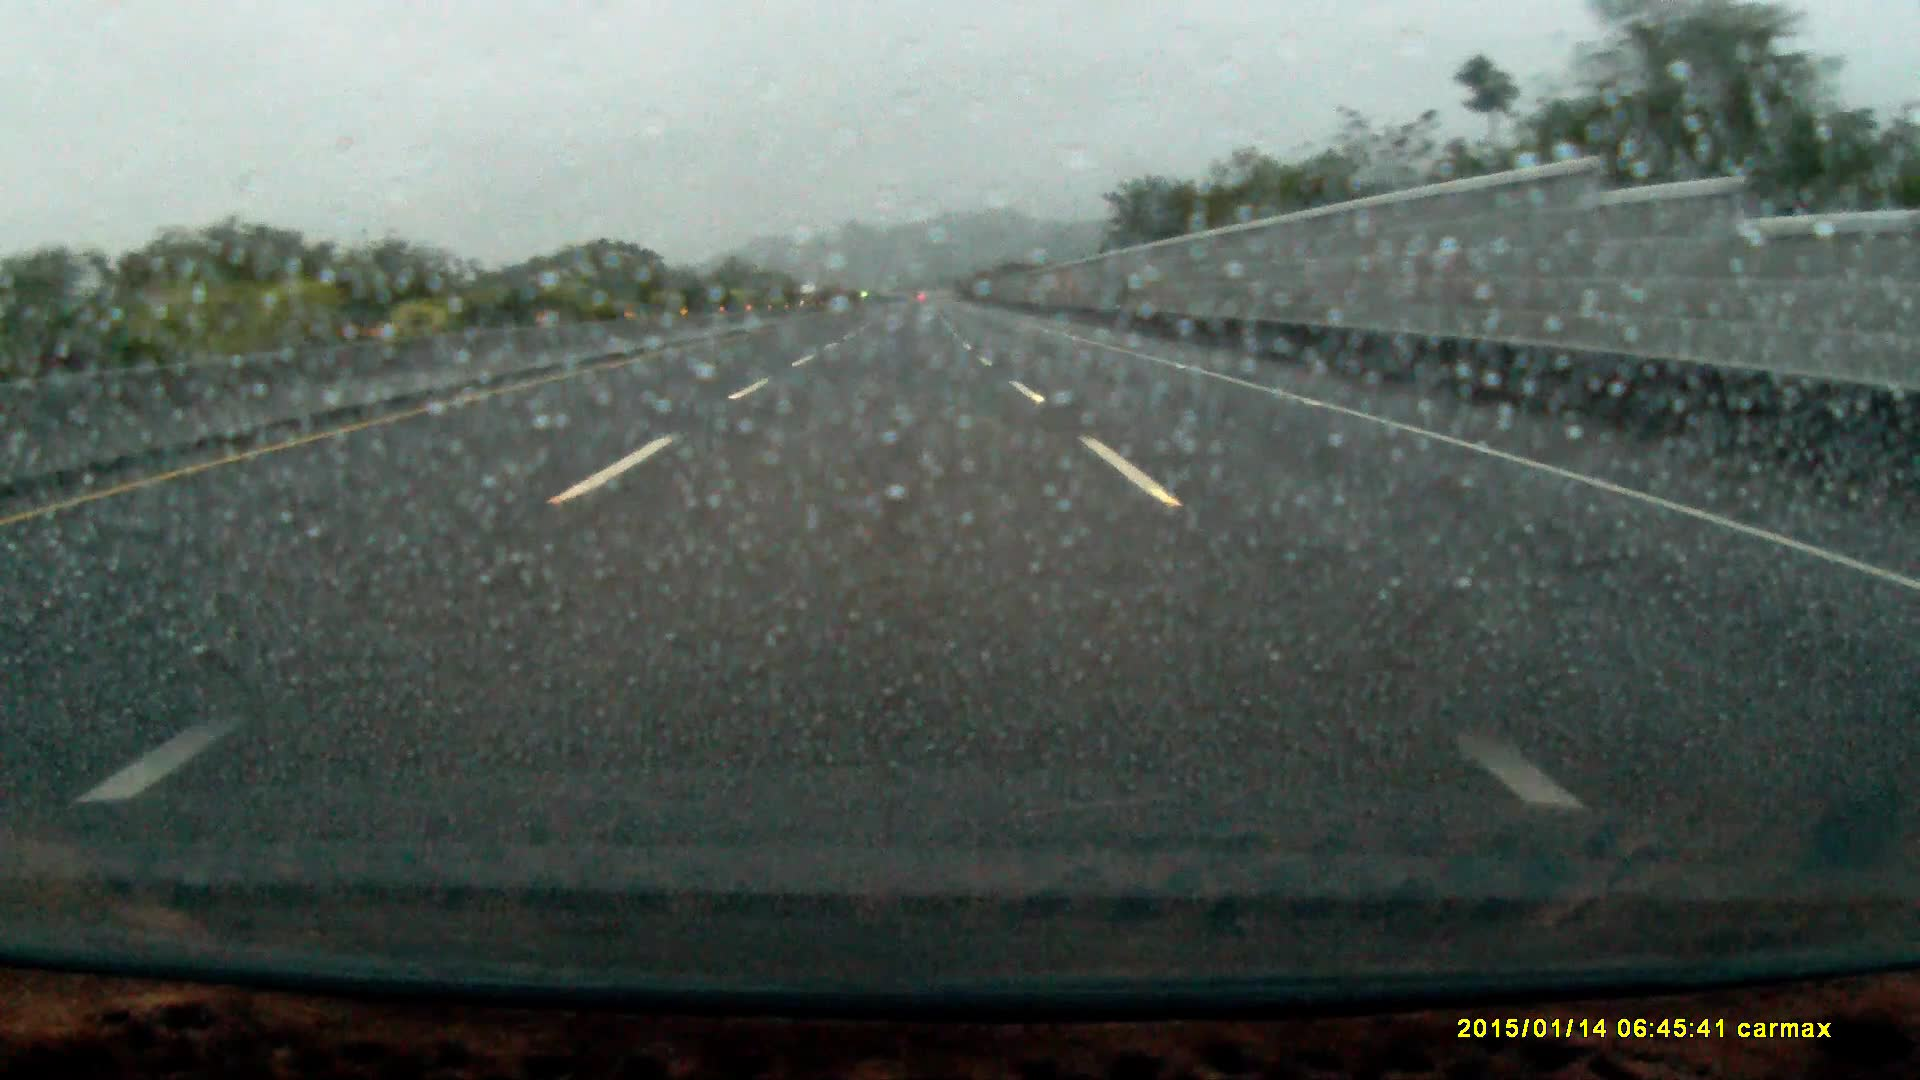vehicle: (798, 285, 822, 309)
